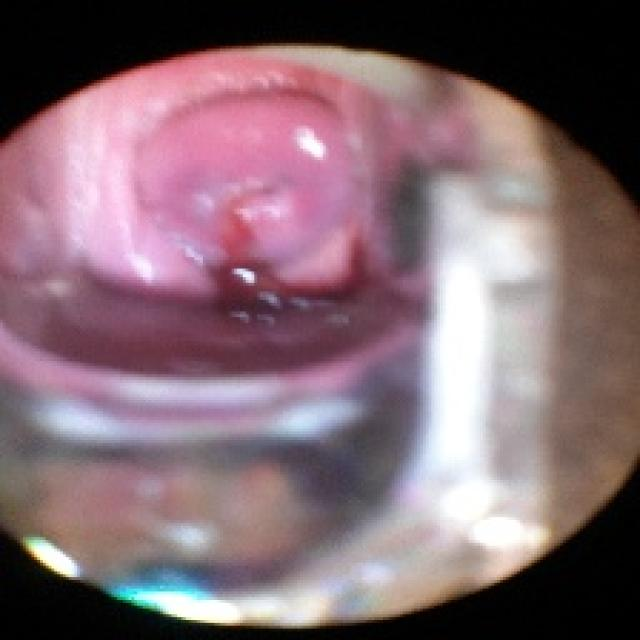type-2: (0, 81, 540, 608)
